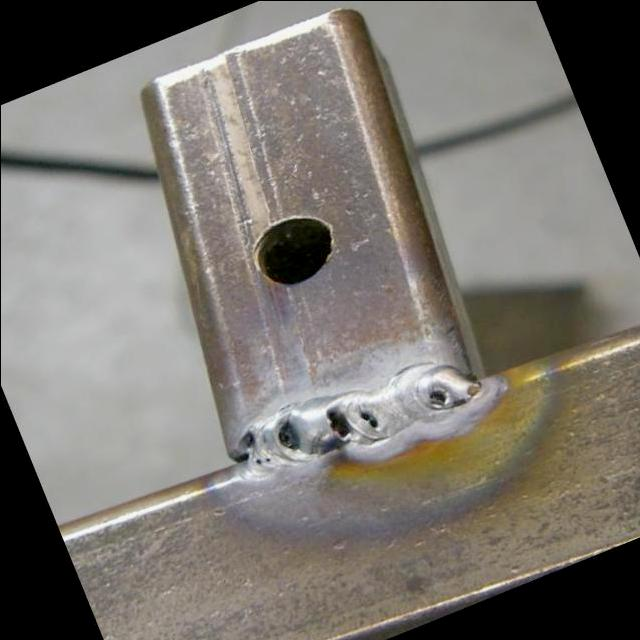defect: (320, 405, 352, 442), (272, 417, 304, 453), (356, 405, 383, 430), (426, 387, 450, 408), (240, 429, 260, 451), (252, 453, 274, 465)
